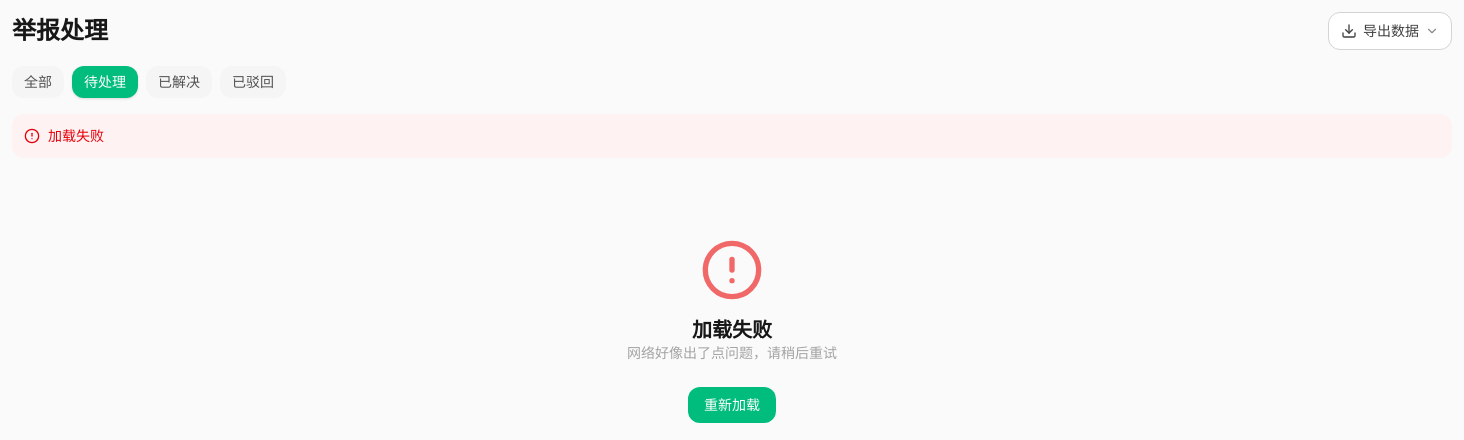
Test: ReportManagement 处理弹窗 › 加载失败显示"重新加载"重试按钮，点击后重新触发请求
The image size is (1464, 440).
Click the button "重新加载" at coordinates (732, 405), box [688,387,776,423]
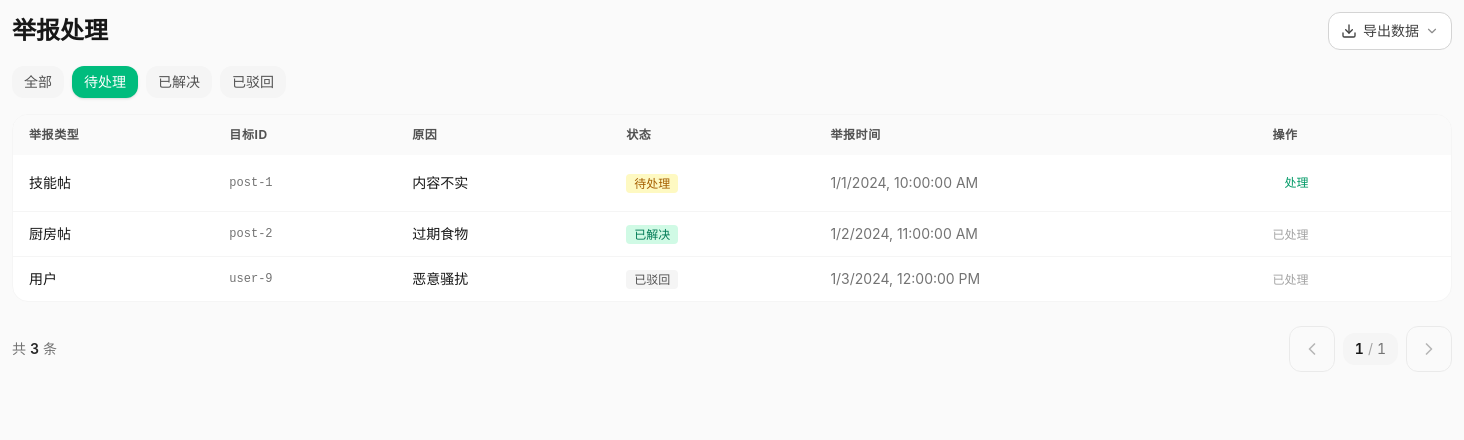
expect the text "内容不实" is shown: met, box [396,155,610,212]
